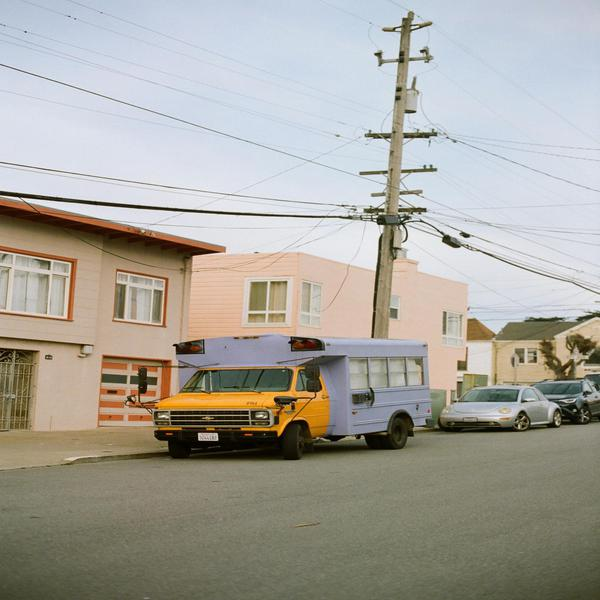utility_pole: (348, 5, 447, 245)
